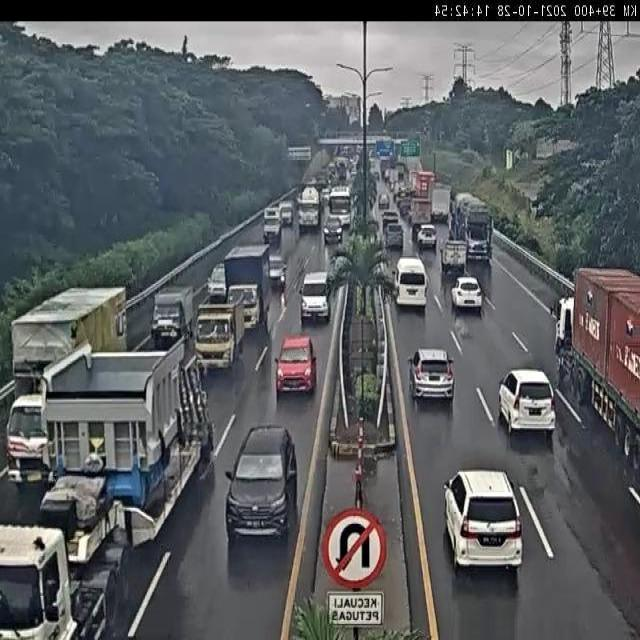Bus: (328, 184, 352, 229)
Car: (442, 471, 524, 576), (224, 423, 297, 540), (498, 368, 558, 436), (274, 334, 319, 396), (409, 347, 455, 405), (452, 278, 483, 314), (204, 264, 227, 297), (269, 253, 289, 290), (323, 215, 343, 243), (385, 226, 406, 249), (418, 226, 438, 250)
Truck: (0, 332, 210, 640), (2, 279, 130, 492), (551, 258, 640, 468), (193, 284, 251, 368), (224, 243, 272, 329), (444, 190, 499, 262), (149, 280, 200, 346), (441, 237, 468, 280), (297, 186, 320, 236), (428, 179, 452, 221), (409, 196, 432, 238), (262, 205, 285, 244), (416, 169, 436, 197)
Van: (393, 255, 431, 310), (300, 273, 331, 324)
